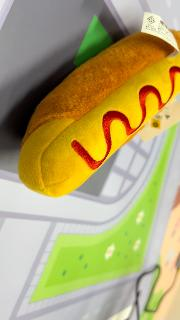hotdog: (17, 28, 179, 198)
